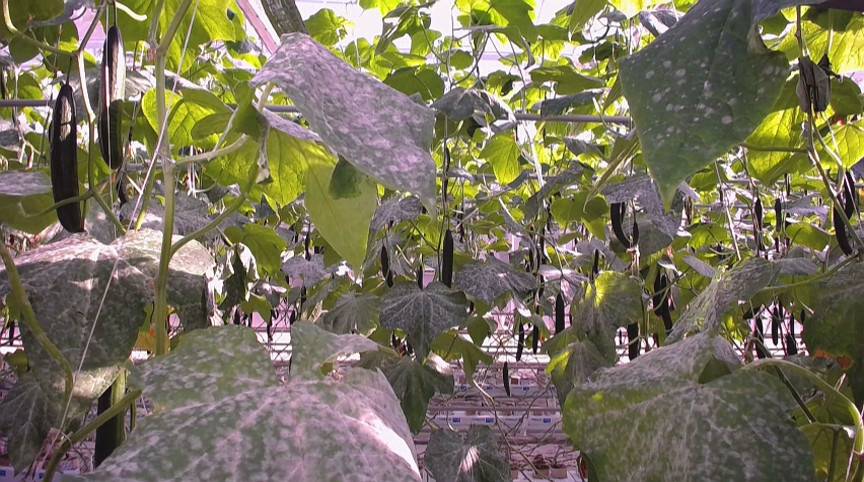cucumber: (51, 82, 84, 232), (98, 26, 127, 167), (94, 368, 127, 467), (440, 230, 456, 287), (551, 294, 566, 336)
